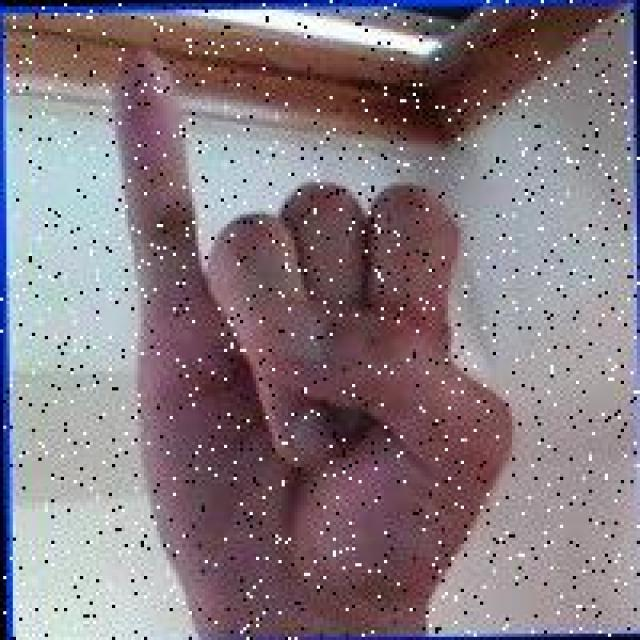I: (109, 32, 518, 621)
